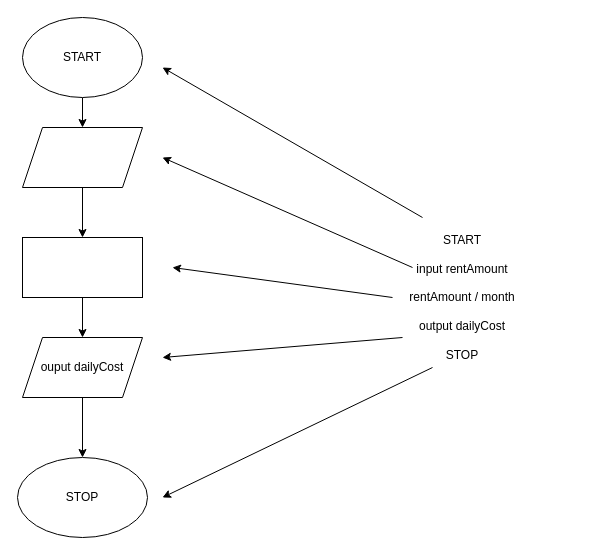
Some shapes in this 610 by 555 pixel diagram are drawn without their labels. Each missing label, with the box of its shape:
input rentAmount: (22, 126, 142, 188)
rentAmount / month: (22, 236, 142, 298)
